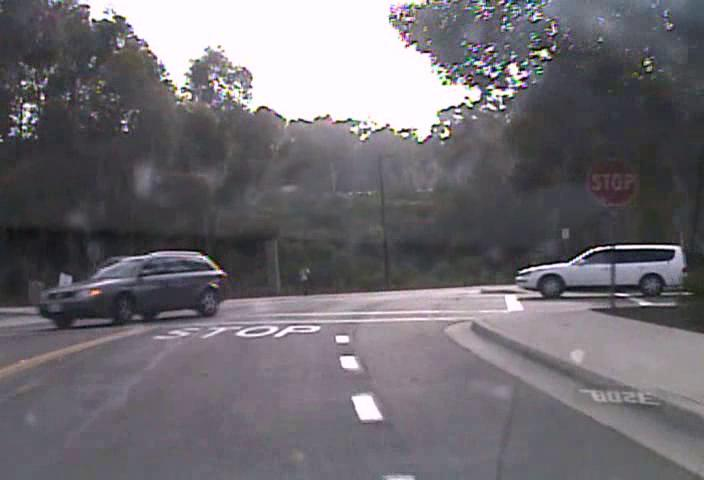stop: (586, 155, 638, 207)
